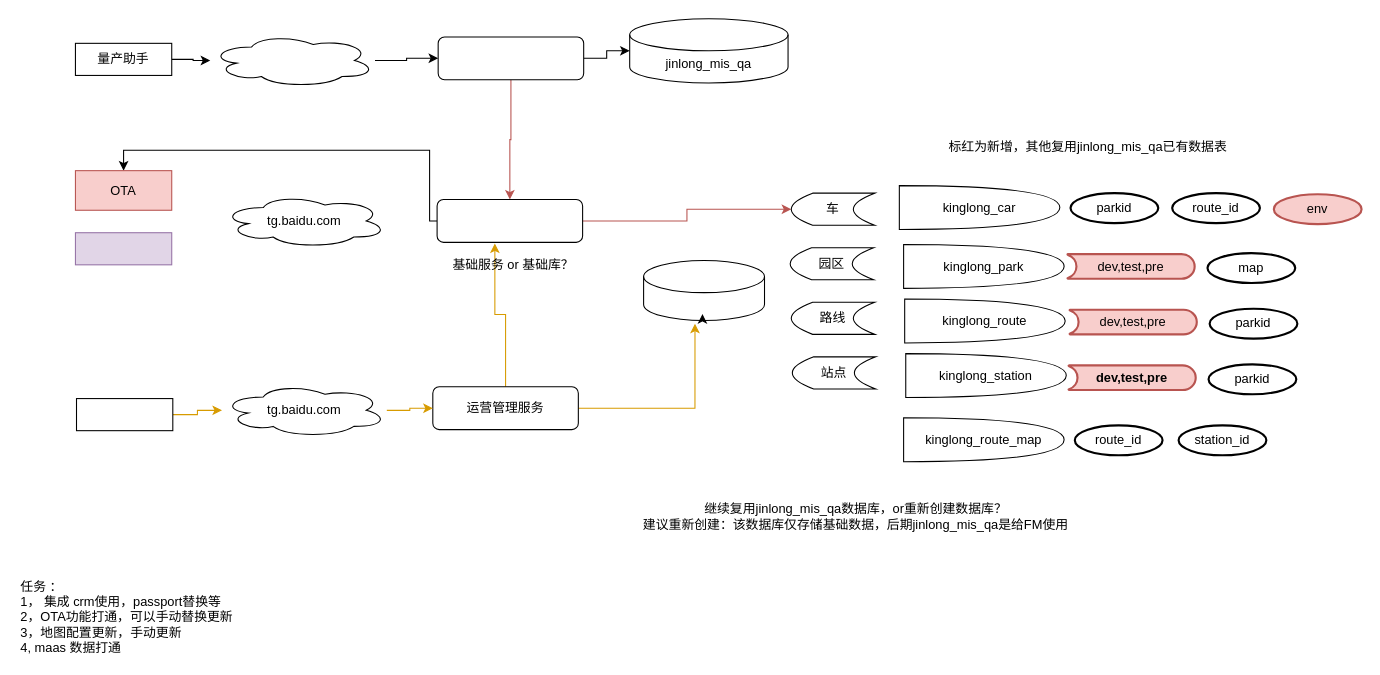
This 1380x675 diagram has some shape labels left out. Each missing label, with the box of its shape:
bull.baidu.com: (209, 33, 375, 87)
MAAS: (75, 398, 173, 431)
地图: (74, 232, 172, 265)
基础数据: (643, 259, 765, 320)
基础服务: (436, 198, 583, 242)
配置平台: (437, 36, 584, 80)
